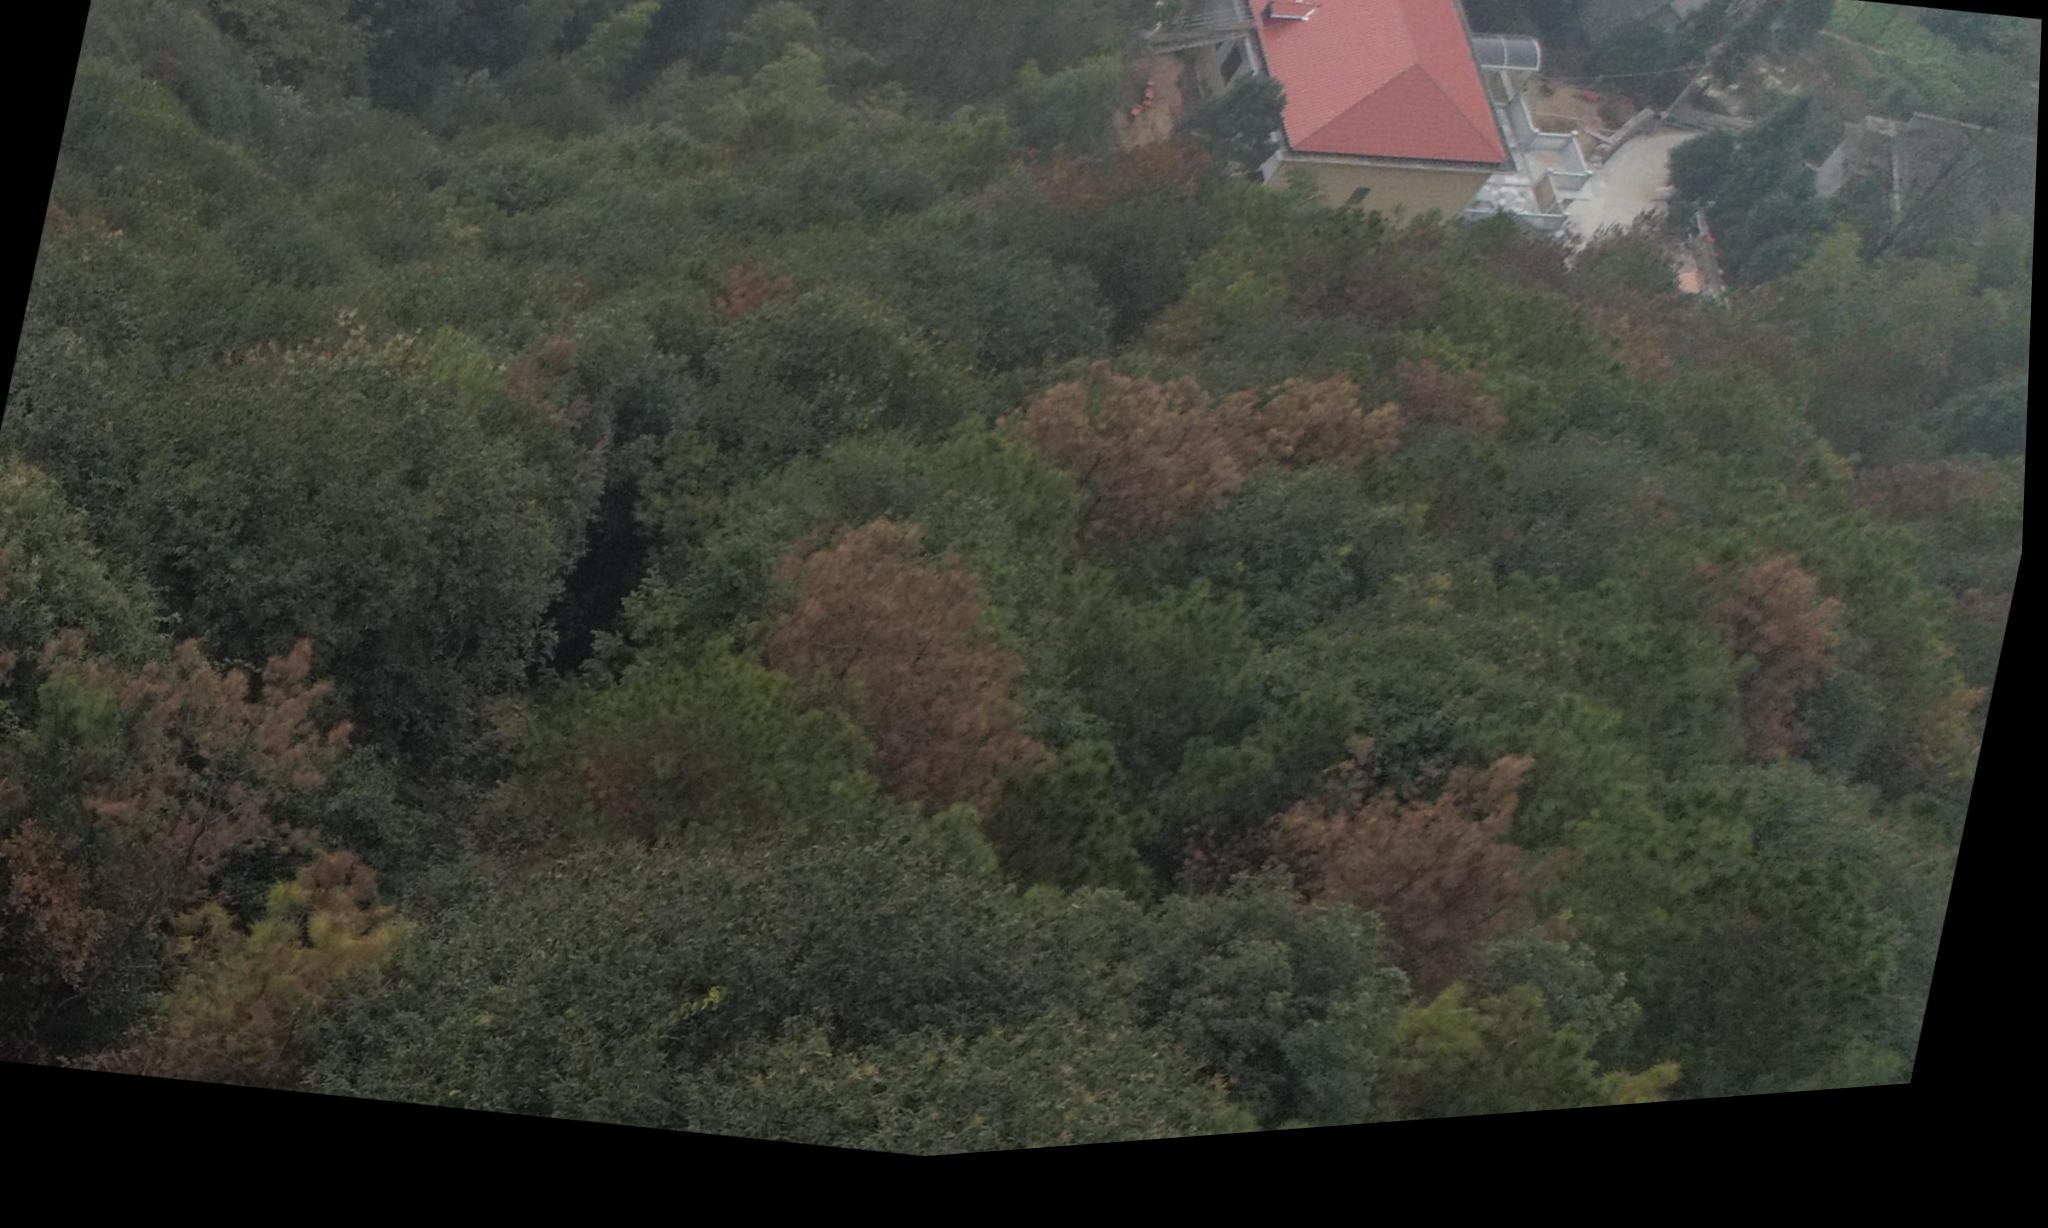heavy: (1139, 653, 1671, 1098), (979, 275, 1510, 595), (665, 481, 1067, 883), (1674, 560, 1864, 811)
light: (0, 539, 569, 1146)
